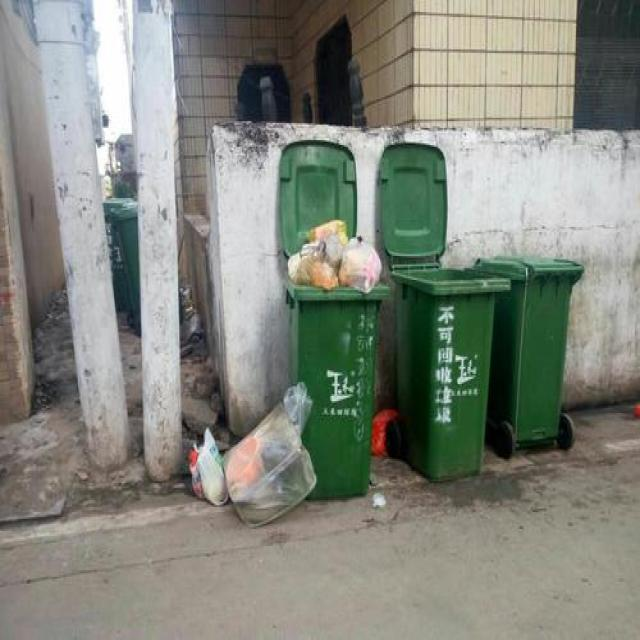garbage: (185, 380, 315, 528), (370, 406, 395, 456)
garbage_bin: (391, 261, 508, 480), (474, 254, 584, 447)
overflow: (283, 219, 389, 500)
